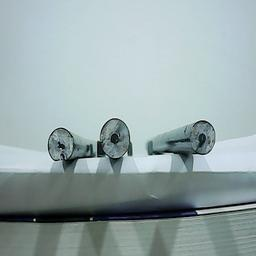pen: (98, 117, 132, 159), (187, 118, 217, 155), (46, 127, 75, 162)
